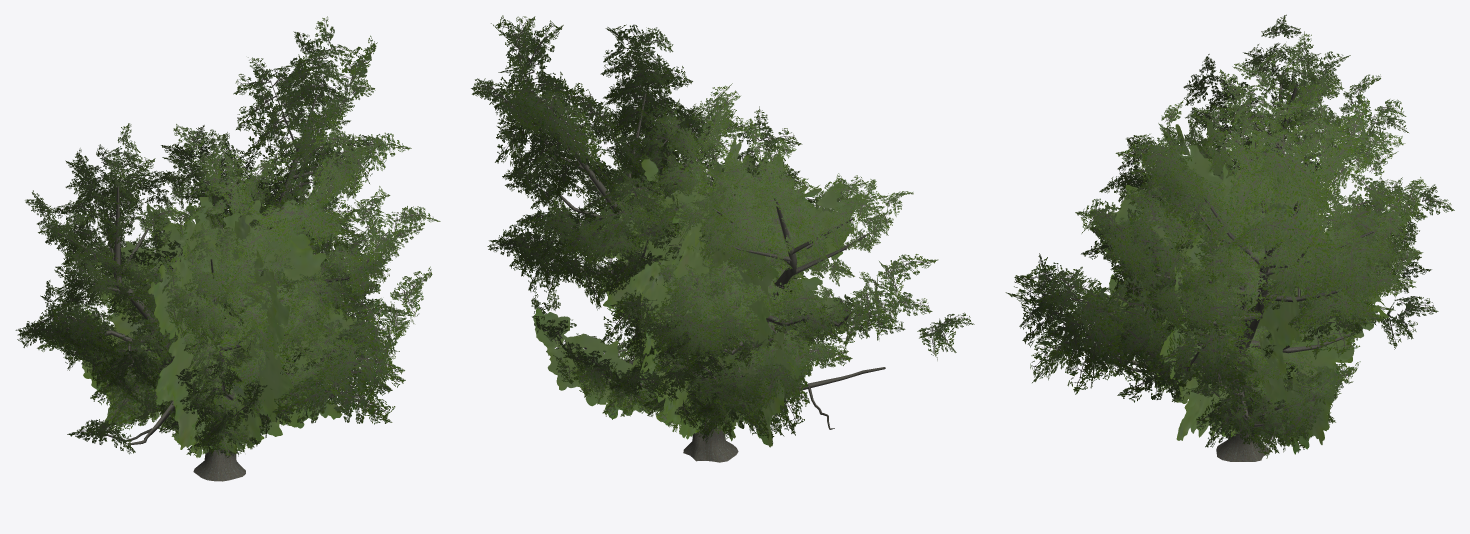
Rendered from cay-soi-nhe.glb.
3 views of the same model, side by side, from view 1: azimuth 30°, elevation 25°; view 2: azimuth 150°, elevation 25°; view 3: azimuth 270°, elevation 25° (orthographic). The views are drawn at different scales.
Visible parts, largest first — view 1: da_x_la, to3_b_bang, to3_x_la, to1_x_la, bode_x_la, to1_b_bang, da_x_than, vua3_x_la, vua2_x_la, vua2_b_bang, vua3_b_bang; view 2: da_x_la, to3_x_la, to3_b_bang, to1_b_bang, to1_x_la, da_x_than, bode_x_la, vua3_x_la, vua2_x_la; view 3: da_x_la, to1_b_bang, to3_x_la, to3_b_bang, to1_x_la, da_x_than, bode_x_la, vua2_x_la, vua1_x_la, vua2_b_bang, vua3_x_la.
Part boxes in pixels (x1=…): da_x_la: x1=15, y1=16, x2=440, y2=454; to3_b_bang: x1=54, y1=179, x2=365, y2=449; to3_x_la: x1=55, y1=180, x2=364, y2=431; to1_x_la: x1=65, y1=200, x2=371, y2=446; bode_x_la: x1=65, y1=204, x2=367, y2=410; to1_b_bang: x1=106, y1=192, x2=369, y2=441; da_x_than: x1=57, y1=80, x2=375, y2=481; vua3_x_la: x1=158, y1=318, x2=264, y2=456; vua2_x_la: x1=155, y1=343, x2=270, y2=455; vua2_b_bang: x1=161, y1=337, x2=256, y2=457; vua3_b_bang: x1=161, y1=363, x2=265, y2=453; da_x_la: x1=471, y1=15, x2=974, y2=409; to3_x_la: x1=576, y1=153, x2=852, y2=444; to3_b_bang: x1=580, y1=148, x2=843, y2=447; to1_b_bang: x1=533, y1=136, x2=867, y2=437; to1_x_la: x1=534, y1=146, x2=850, y2=425; da_x_than: x1=532, y1=93, x2=885, y2=462; bode_x_la: x1=531, y1=145, x2=866, y2=386; vua3_x_la: x1=643, y1=328, x2=789, y2=439; vua2_x_la: x1=645, y1=338, x2=743, y2=442; da_x_la: x1=1005, y1=14, x2=1454, y2=411; to1_b_bang: x1=1090, y1=119, x2=1354, y2=454; to3_x_la: x1=1089, y1=134, x2=1412, y2=452; to3_b_bang: x1=1082, y1=141, x2=1411, y2=449; to1_x_la: x1=1086, y1=119, x2=1358, y2=458; da_x_than: x1=1063, y1=74, x2=1376, y2=461; bode_x_la: x1=1089, y1=118, x2=1360, y2=406; vua2_x_la: x1=1173, y1=316, x2=1303, y2=427; vua1_x_la: x1=1223, y1=329, x2=1317, y2=402; vua2_b_bang: x1=1165, y1=306, x2=1308, y2=436; vua3_x_la: x1=1205, y1=297, x2=1319, y2=435.
Size of the model in its own units: 28.4 by 28.11 by 25.69.
3 materials, 3 textured.
